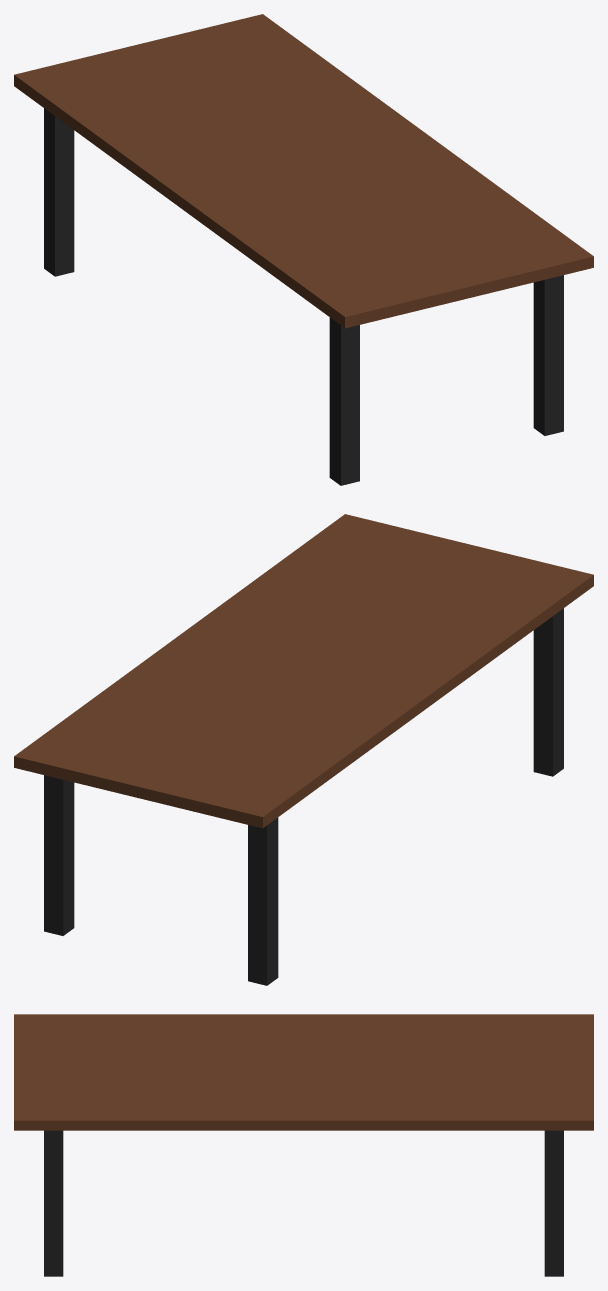
Rendered from GrandeTable_32.fbx.
3 views of the same model, one above another, from view 1: azimuth 30°, elevation 25°; view 2: azimuth 150°, elevation 25°; view 3: azimuth 270°, elevation 25° (orthographic). The views are drawn at different scales.
Parts seen in each view (by area): view 1: pCube79, pCube77, pCube75, pCube78; view 2: pCube79, pCube75, pCube77, pCube76; view 3: pCube79, pCube78, pCube76.
Part boxes in pixels (x1=…): pCube79: x1=14, y1=14, x2=593, y2=328; pCube77: x1=329, y1=317, x2=359, y2=485; pCube75: x1=44, y1=108, x2=74, y2=276; pCube78: x1=533, y1=275, x2=563, y2=435; pCube79: x1=14, y1=514, x2=593, y2=828; pCube75: x1=248, y1=817, x2=278, y2=985; pCube77: x1=533, y1=608, x2=563, y2=776; pCube76: x1=44, y1=775, x2=74, y2=935; pCube79: x1=14, y1=1014, x2=593, y2=1130; pCube78: x1=44, y1=1130, x2=63, y2=1276; pCube76: x1=544, y1=1130, x2=563, y2=1276.
Size of the model in its own units: 53.95 by 38.21 by 124.
